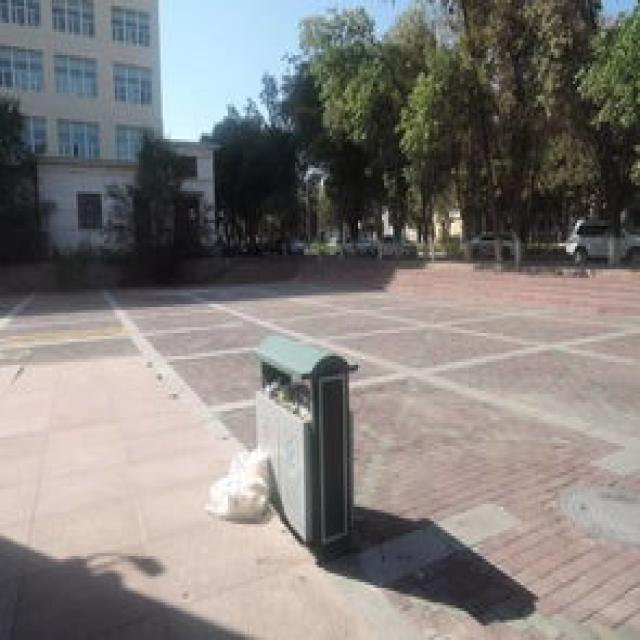garbage: (202, 446, 269, 521)
garbage_bin: (252, 333, 358, 556)
